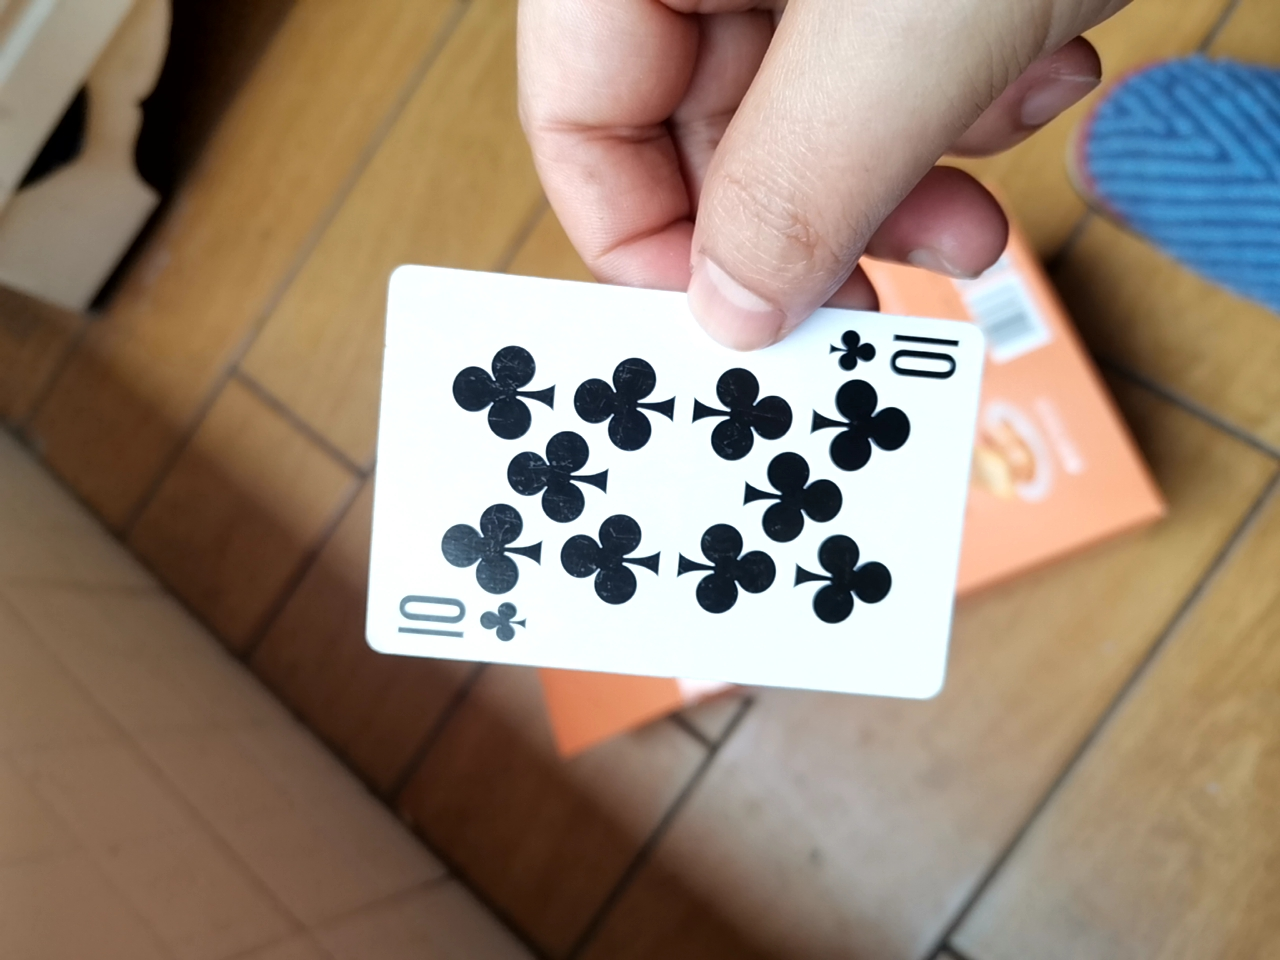mh 10: (330, 261, 986, 697)
